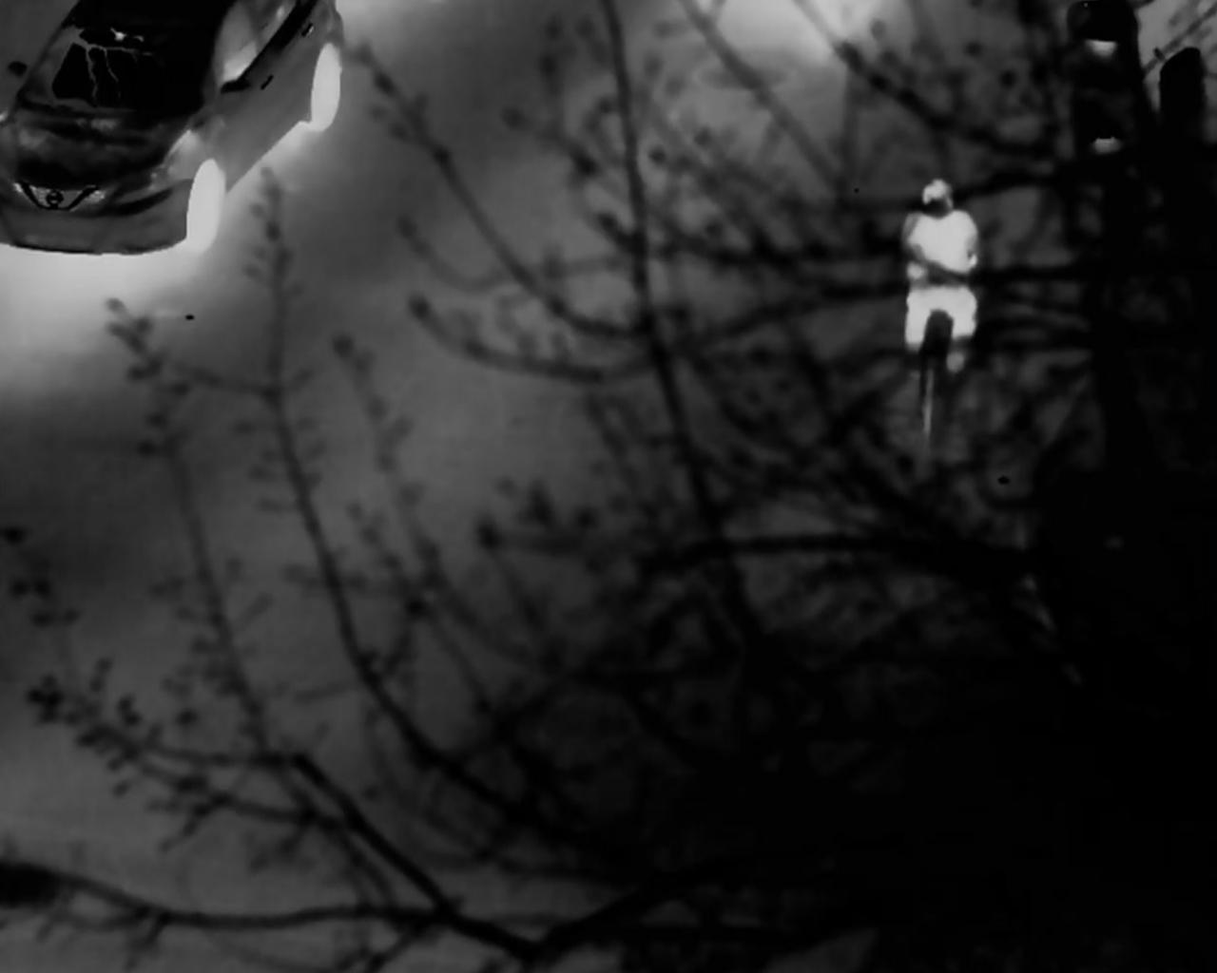person: (896, 167, 982, 384)
